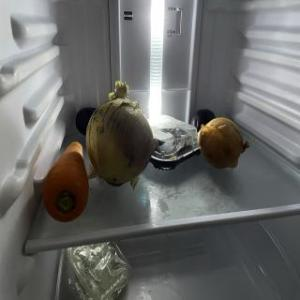carrot: (43, 140, 91, 222)
eggplant: (74, 105, 100, 137), (192, 108, 216, 132)
onion: (86, 82, 154, 184), (198, 118, 252, 172)
